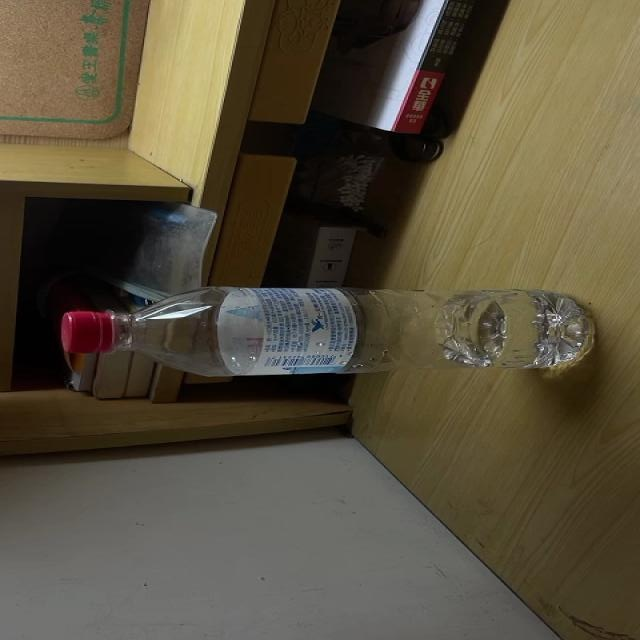Water: (60, 290, 594, 375)
